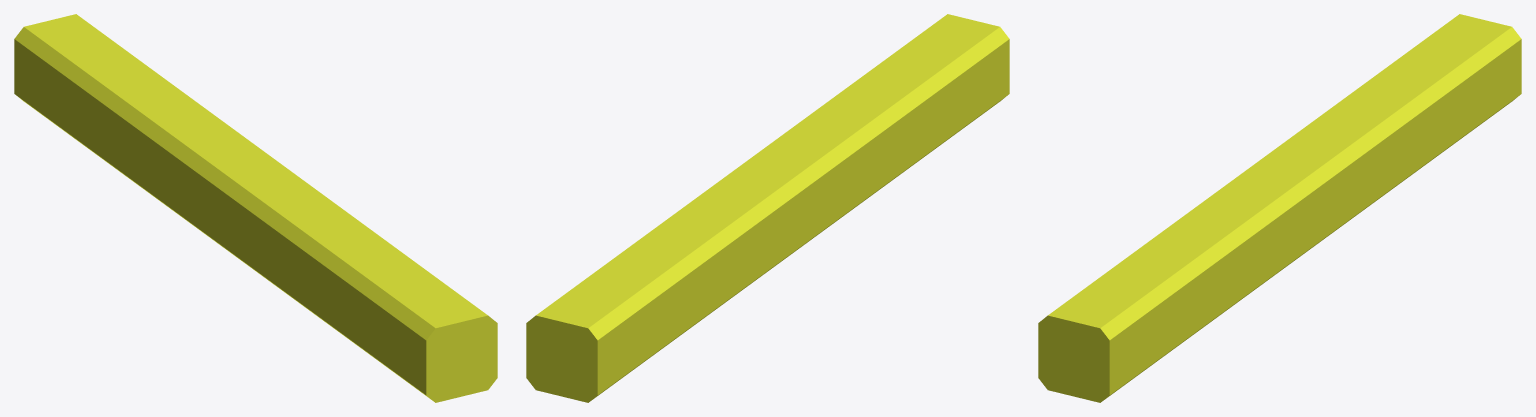
File: French Fry 1.fbx
3 renders of one model, left to right at view 1: azimuth 30°, elevation 25°; view 2: azimuth 150°, elevation 25°; view 3: azimuth 330°, elevation 25°, orthographic.
Visible parts, largest first — view 1: French Fry 1; view 2: French Fry 1; view 3: French Fry 1.
Boxes of the visible parts, bbox=[...] form: French Fry 1: bbox=[14, 14, 497, 402]; French Fry 1: bbox=[526, 14, 1009, 402]; French Fry 1: bbox=[1038, 14, 1521, 402].
Bounding box in the file's own units: 10 × 10 × 100.
